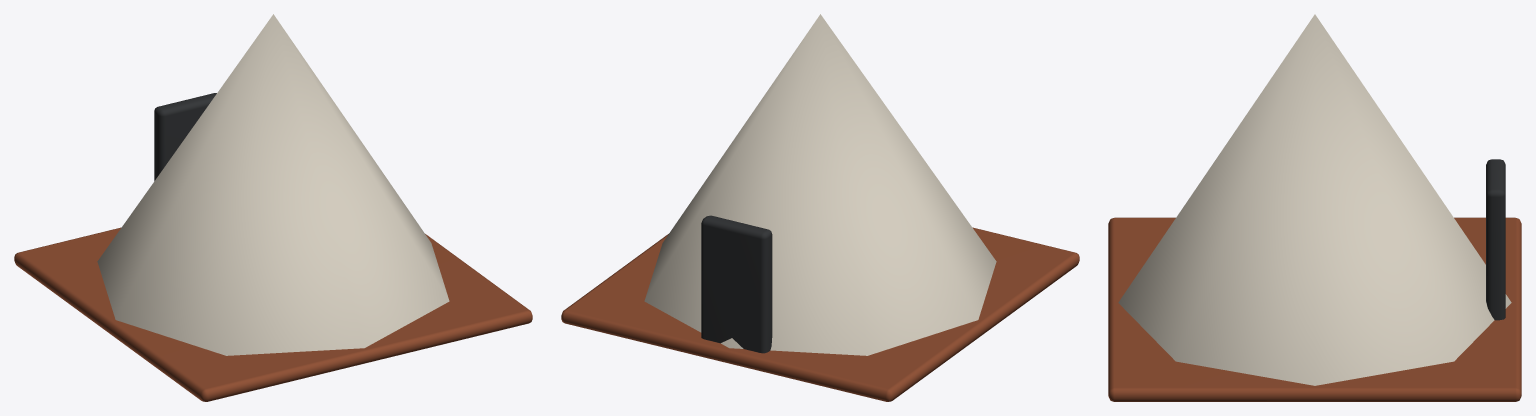
The model's file is tent.glb.
3 views of the same model, side by side, from view 1: azimuth 30°, elevation 25°; view 2: azimuth 150°, elevation 25°; view 3: azimuth 270°, elevation 25° (orthographic). The views are drawn at different scales.
Parts seen in each view (by area): view 1: tent; view 2: tent; view 3: tent.
Part boxes in pixels (x1=…): tent: x1=14, y1=14, x2=532, y2=401; tent: x1=561, y1=14, x2=1079, y2=401; tent: x1=1108, y1=14, x2=1521, y2=401.
Bounding box in the file's own units: 2.1 × 1.7 × 2.1.
